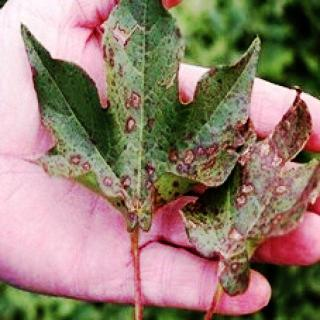leaf spot: (20, 34, 178, 226), (178, 86, 320, 285)
